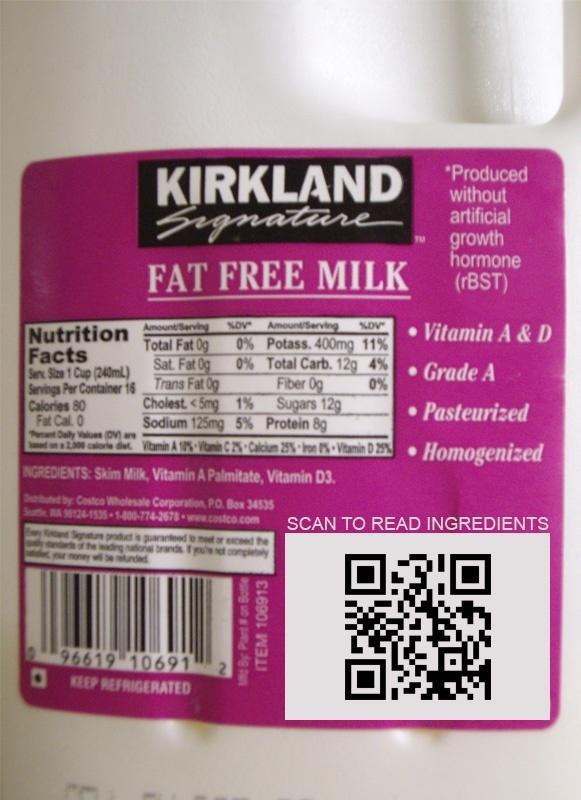Finder pattern: (339, 548, 391, 599), (340, 653, 391, 704), (445, 549, 497, 599)
